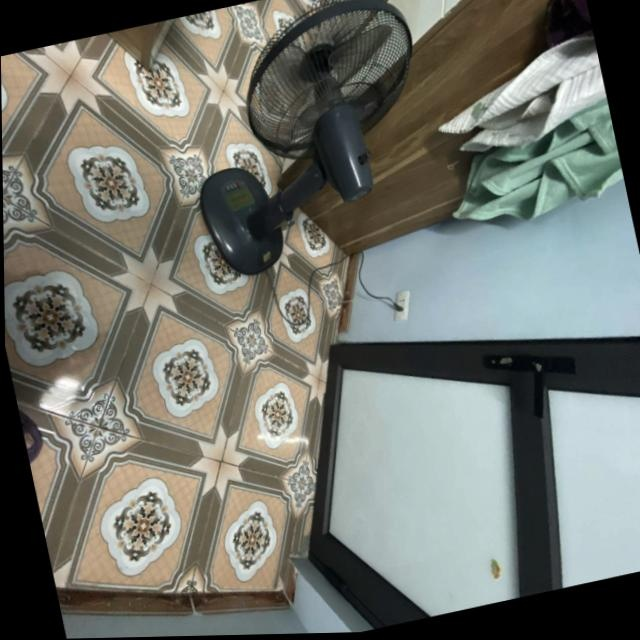outlet: (387, 289, 415, 323)
